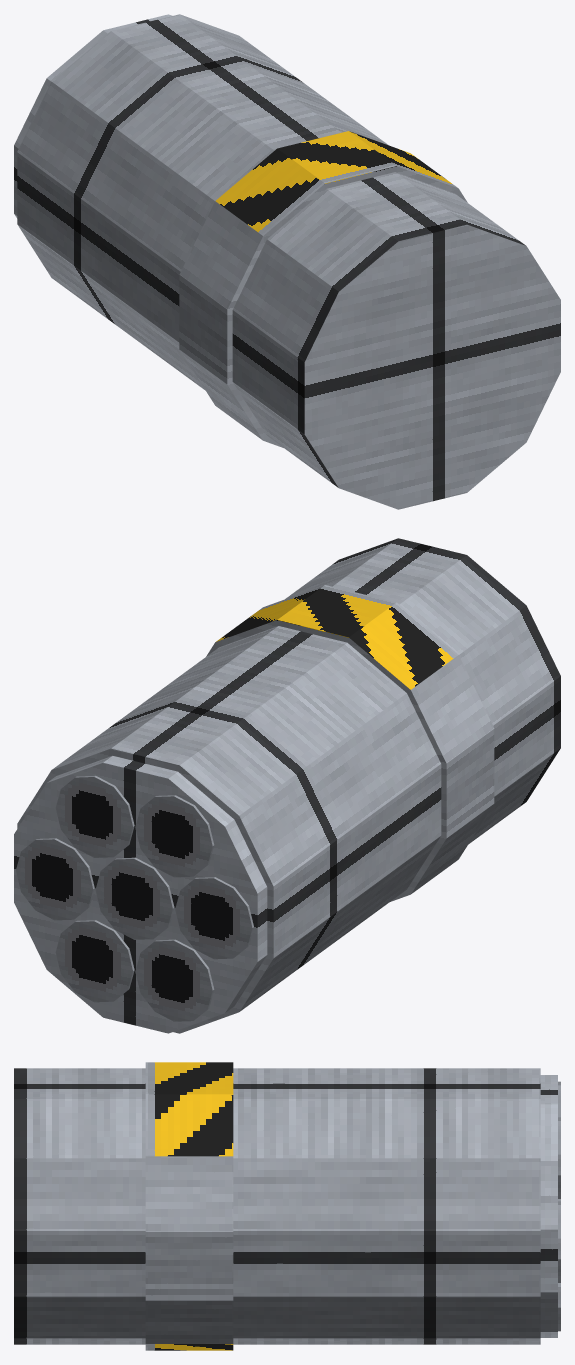
Rendered from rack_port_kestrel.glb.
The picture shows the model from 3 angles, top to bottom: view 1: azimuth 30°, elevation 25°; view 2: azimuth 150°, elevation 25°; view 3: azimuth 270°, elevation 25°; orthographic projection. The views are drawn at different scales.
Parts seen in each view (by area): view 1: rack, rack_band, rack_face; view 2: rack, rack_band, rack_face, rack_tube.005, rack_tube.004, rack_tube, rack_tube.001, rack_tube.002, rack_tube.006, rack_tube.003; view 3: rack, rack_band, rack_face.
Part boxes in pixels (<box>): rack: <box>17,14,560,509</box>; rack_band: <box>179,131,467,447</box>; rack_face: <box>14,14,172,218</box>; rack: <box>17,538,560,1033</box>; rack_band: <box>206,585,494,901</box>; rack_face: <box>14,756,267,1033</box>; rack_tube.005: <box>135,939,214,1021</box>; rack_tube.004: <box>175,877,253,959</box>; rack_tube: <box>95,857,174,939</box>; rack_tube.001: <box>16,838,94,920</box>; rack_tube.002: <box>55,775,134,857</box>; rack_tube.006: <box>55,920,134,1002</box>; rack_tube.003: <box>135,795,214,877</box>; rack: <box>14,1068,540,1344</box>; rack_band: <box>145,1062,233,1350</box>; rack_face: <box>540,1075,557,1337</box>.
Size of the model in its own units: 9.66 by 9.66 by 18.7.
4 materials, 4 textured.
